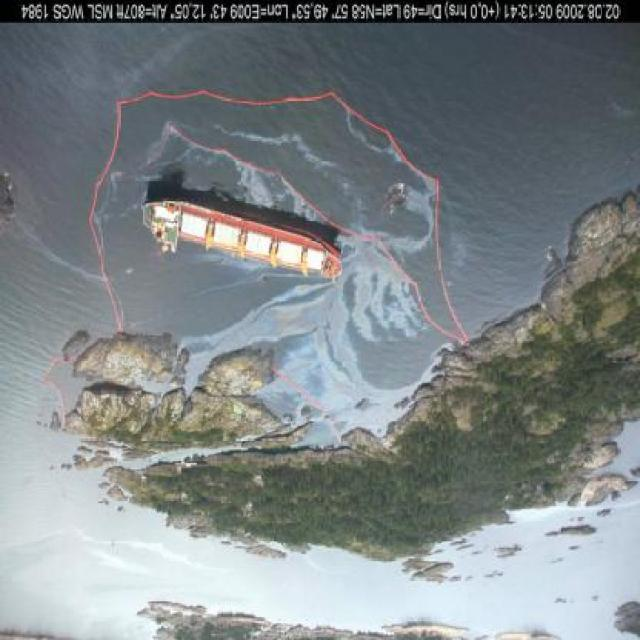sheen: (182, 243, 445, 444)
